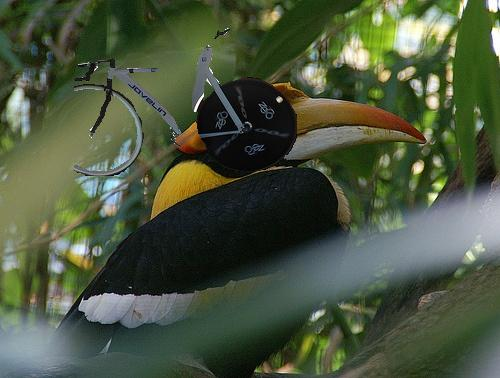tampered: (75, 29, 297, 176)
